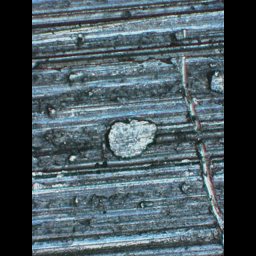d: (173, 28, 223, 237), (101, 116, 161, 162)
